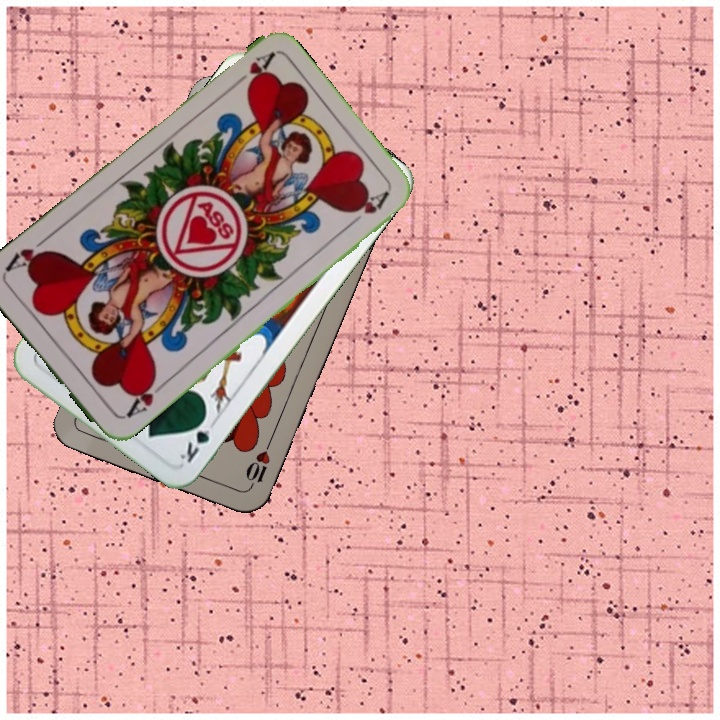GK: (176, 411, 219, 465)
H10: (241, 437, 274, 494)
HA: (120, 373, 169, 421), (226, 49, 276, 93)
